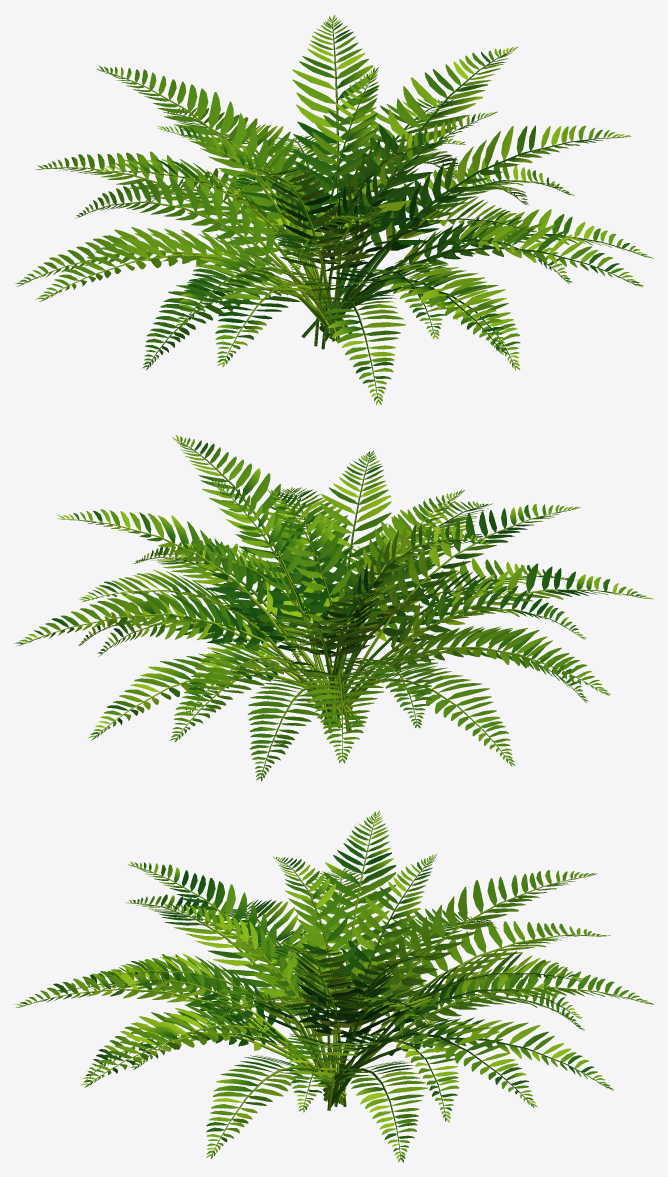
Rendered from green_bush.glb.
3 renders of one model, top to bottom at view 1: azimuth 30°, elevation 25°; view 2: azimuth 150°, elevation 25°; view 3: azimuth 270°, elevation 25°, orthographic. The views are drawn at different scales.
Visible parts, largest first — view 1: Cylinder.004, Cylinder.027, Cylinder.025, Cylinder.017, Cylinder.032, Cylinder.024, Cylinder.012, Cylinder.009, Cylinder.014, Cylinder.006, Cylinder.010, Cylinder.008 (+23 smaller); view 2: Cylinder.017, Cylinder.021, Cylinder.019, Cylinder.033, Cylinder.004, Cylinder.002, Cylinder.010, Cylinder.031, Cylinder.012, Cylinder.030, Cylinder.013, Cylinder.028 (+22 smaller); view 3: Cylinder.025, Cylinder.023, Cylinder.021, Cylinder.029, Cylinder.034, Cylinder.002, Cylinder.014, Cylinder.005, Cylinder.008, Cylinder.003, Cylinder, Cylinder.010 (+23 smaller).
Part boxes in pixels (x1=…): Cylinder.004: x1=329, y1=46, x2=518, y2=338; Cylinder.027: x1=292, y1=14, x2=385, y2=341; Cylinder.025: x1=96, y1=65, x2=335, y2=341; Cylinder.017: x1=325, y1=125, x2=631, y2=341; Cylinder.032: x1=294, y1=67, x2=378, y2=346; Cylinder.024: x1=75, y1=176, x2=343, y2=328; Cylinder.012: x1=35, y1=233, x2=321, y2=315; Cylinder.009: x1=307, y1=293, x2=405, y2=404; Cylinder.014: x1=35, y1=151, x2=313, y2=304; Cylinder.006: x1=319, y1=223, x2=643, y2=330; Cylinder.010: x1=215, y1=271, x2=347, y2=367; Cylinder.008: x1=333, y1=262, x2=507, y2=354; Cylinder.017: x1=172, y1=435, x2=341, y2=728; Cylinder.021: x1=326, y1=504, x2=580, y2=724; Cylinder.019: x1=306, y1=450, x2=391, y2=724; Cylinder.033: x1=268, y1=490, x2=367, y2=731; Cylinder.004: x1=57, y1=509, x2=336, y2=723; Cylinder.002: x1=14, y1=592, x2=348, y2=716; Cylinder.010: x1=362, y1=563, x2=653, y2=685; Cylinder.031: x1=211, y1=478, x2=334, y2=733; Cylinder.012: x1=339, y1=625, x2=610, y2=709; Cylinder.030: x1=323, y1=490, x2=464, y2=725; Cylinder.013: x1=336, y1=665, x2=515, y2=766; Cylinder.028: x1=97, y1=588, x2=351, y2=716; Cylinder.025: x1=341, y1=870, x2=597, y2=1084; Cylinder.023: x1=307, y1=810, x2=396, y2=1110; Cylinder.021: x1=128, y1=861, x2=340, y2=1103; Cylinder.029: x1=332, y1=854, x2=436, y2=1106; Cylinder.034: x1=273, y1=857, x2=361, y2=1091; Cylinder.002: x1=325, y1=1017, x2=537, y2=1107; Cylinder.014: x1=344, y1=921, x2=610, y2=1081; Cylinder.005: x1=206, y1=1055, x2=332, y2=1158; Cylinder.008: x1=14, y1=965, x2=302, y2=1060; Cylinder.003: x1=334, y1=1060, x2=428, y2=1162; Cylinder: x1=344, y1=961, x2=653, y2=1081; Cylinder.010: x1=125, y1=894, x2=324, y2=1084.
Size of the model in its own units: 619 by 231 by 661.
1 material, 1 textured.
